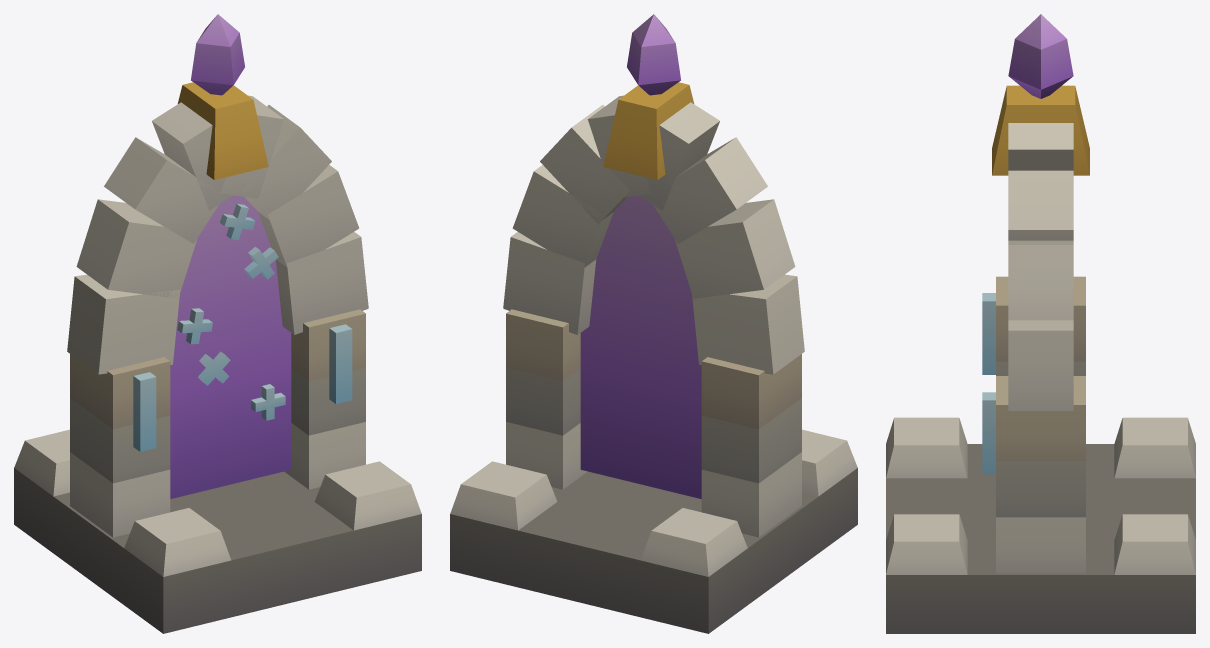
File: logi_magical_gate.glb
The picture shows the model from 3 angles, left to right: view 1: azimuth 30°, elevation 25°; view 2: azimuth 150°, elevation 25°; view 3: azimuth 270°, elevation 25°; orthographic projection. The views are drawn at different scales.
Parts seen in each view (by area): view 1: logi_magical_gate; view 2: logi_magical_gate; view 3: logi_magical_gate.
Part boxes in pixels (x1=…): logi_magical_gate: x1=14, y1=14, x2=421, y2=633; logi_magical_gate: x1=450, y1=14, x2=857, y2=633; logi_magical_gate: x1=886, y1=14, x2=1195, y2=633.
Bounding box in the file's own units: 1.99 × 3.75 × 1.9.
Materials: 1 (1 with a texture image).
